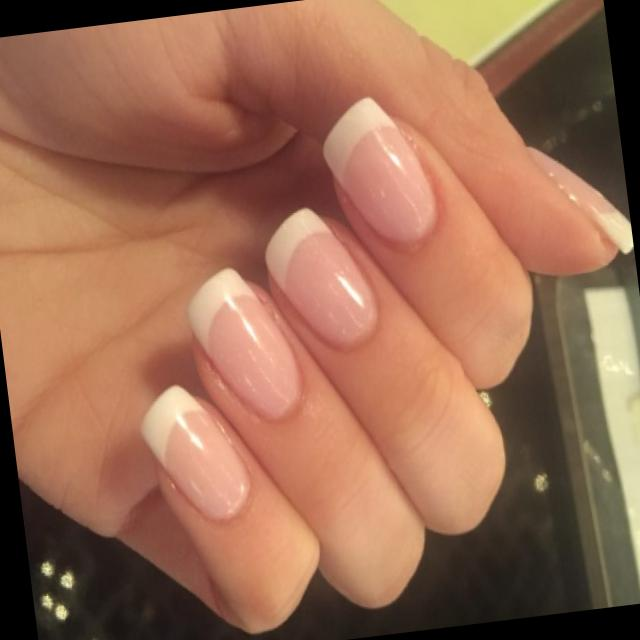Nail: (188, 268, 299, 417), (323, 98, 435, 241), (266, 209, 376, 347), (139, 385, 247, 520), (527, 147, 633, 254)
